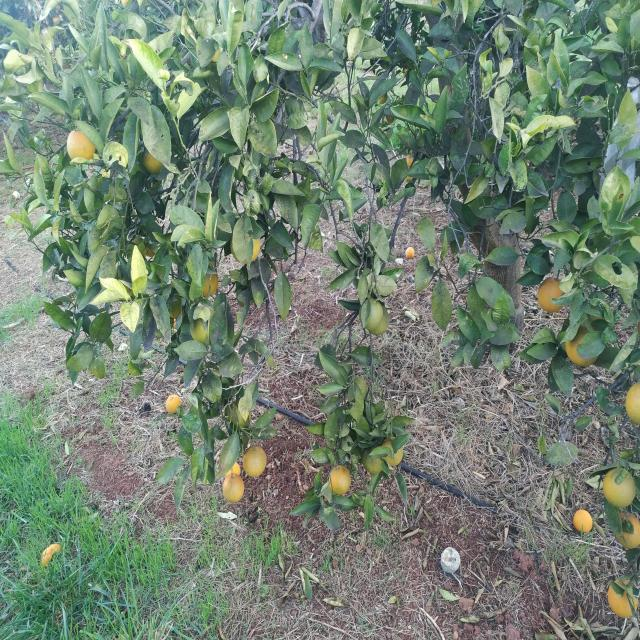Jeruk Belum Matang: (564, 322, 602, 368), (602, 466, 636, 510), (230, 222, 264, 265), (609, 574, 640, 620), (65, 125, 98, 165), (188, 306, 220, 346), (538, 276, 568, 314), (613, 509, 640, 549), (142, 139, 170, 174), (242, 445, 269, 478), (226, 401, 252, 432), (360, 298, 384, 330), (197, 268, 220, 300), (329, 464, 352, 496), (363, 444, 386, 476), (383, 438, 407, 468), (368, 306, 391, 337), (626, 378, 640, 428), (223, 474, 246, 504), (136, 230, 160, 258), (574, 507, 594, 535), (162, 295, 185, 318), (351, 374, 369, 402), (222, 458, 242, 482), (164, 394, 183, 416), (171, 314, 186, 332), (384, 108, 396, 125), (378, 87, 389, 105), (404, 154, 418, 168), (404, 171, 416, 183)
